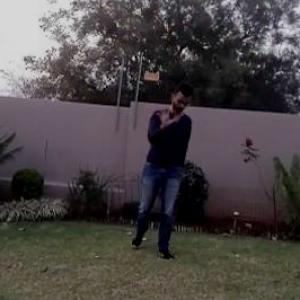follow_hand: (154, 102, 179, 130)
